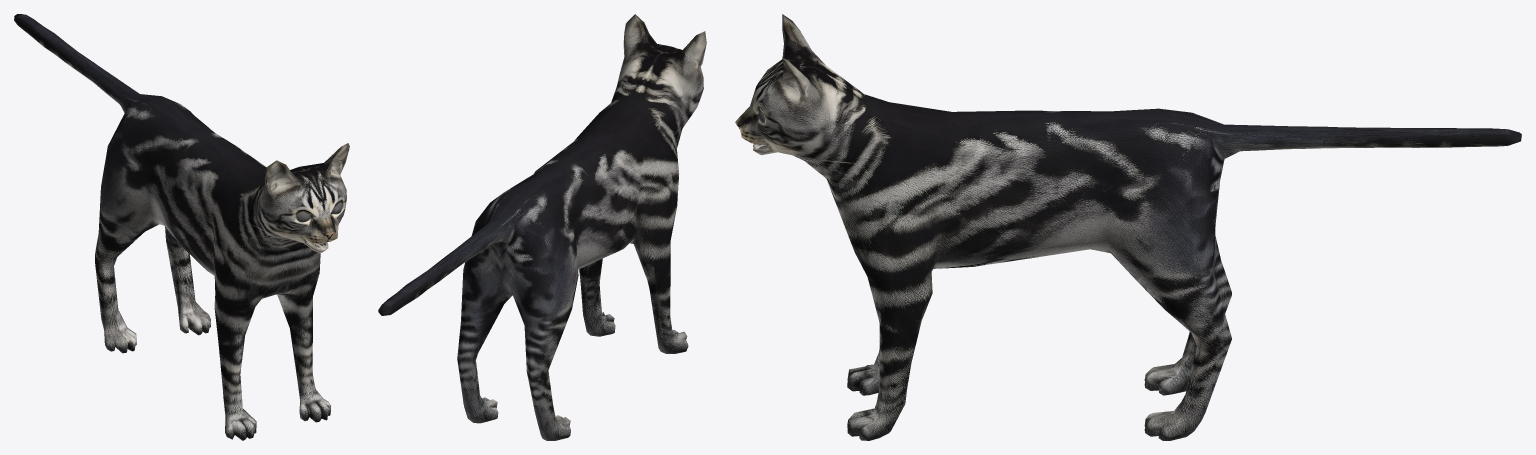
The picture shows the model from 3 angles, left to right: view 1: azimuth 30°, elevation 25°; view 2: azimuth 150°, elevation 25°; view 3: azimuth 270°, elevation 25°; orthographic projection. The views are drawn at different scales.
Visible parts, largest first — view 1: Mesh_0; view 2: Mesh_0; view 3: Mesh_0.
Part boxes in pixels (bbox=[...]): Mesh_0: bbox=[14, 14, 349, 440]; Mesh_0: bbox=[378, 14, 706, 440]; Mesh_0: bbox=[735, 14, 1521, 440].
Bounding box in the file's own units: 39.05 × 105 × 200.
Materials: 1 (1 with a texture image).
